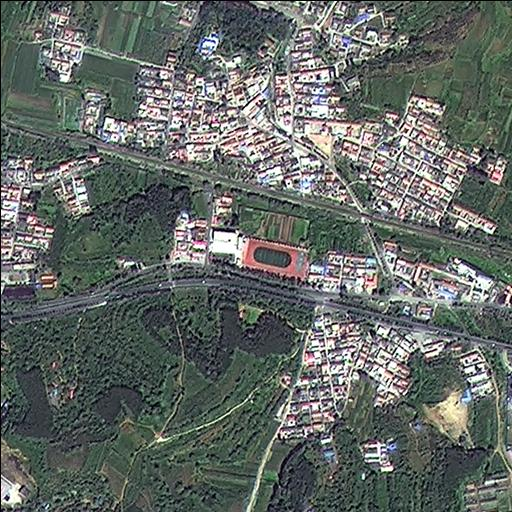school: (208, 230, 308, 284)
